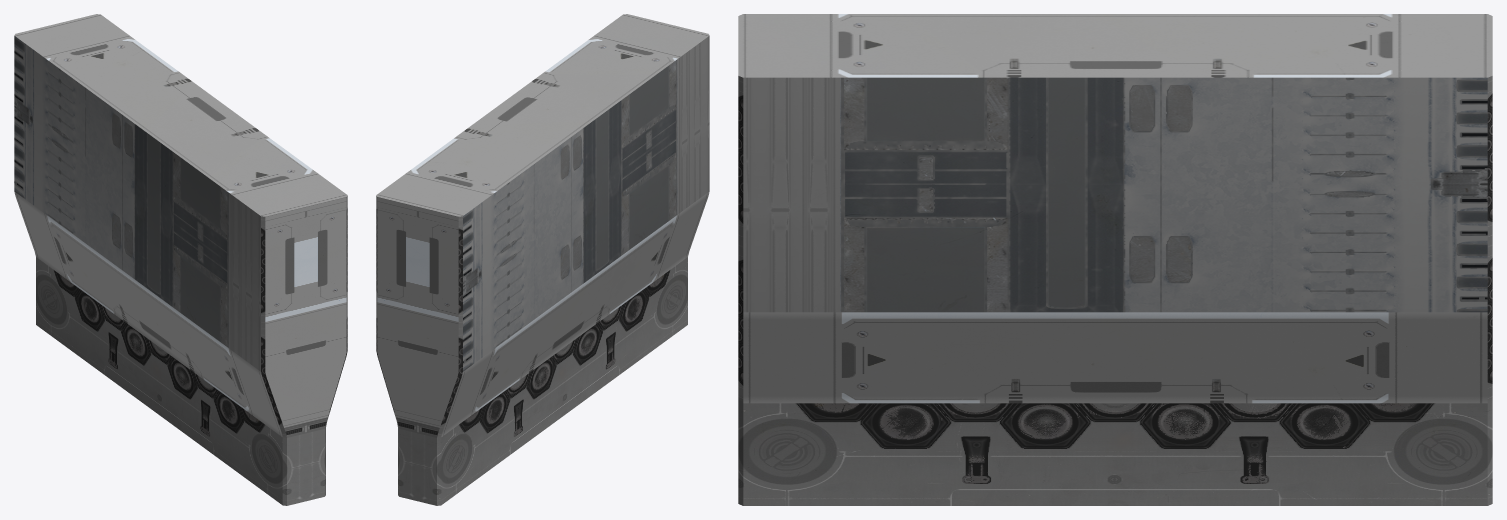
Rendered from SM_Wallup09.fbx.
3 views of the same model, side by side, from view 1: azimuth 30°, elevation 25°; view 2: azimuth 150°, elevation 25°; view 3: azimuth 270°, elevation 25° (orthographic). The views are drawn at different scales.
Visible parts, largest first — view 1: SM_Wallup09_LOD0; view 2: SM_Wallup09_LOD0; view 3: SM_Wallup09_LOD0.
Boxes of the visible parts, x1,y1,x2,y2 form: SM_Wallup09_LOD0: (14, 14, 347, 505); SM_Wallup09_LOD0: (376, 14, 709, 505); SM_Wallup09_LOD0: (738, 14, 1492, 505).
Bounding box in the file's own units: 80 × 400 × 260.
3 materials, 3 textured.
